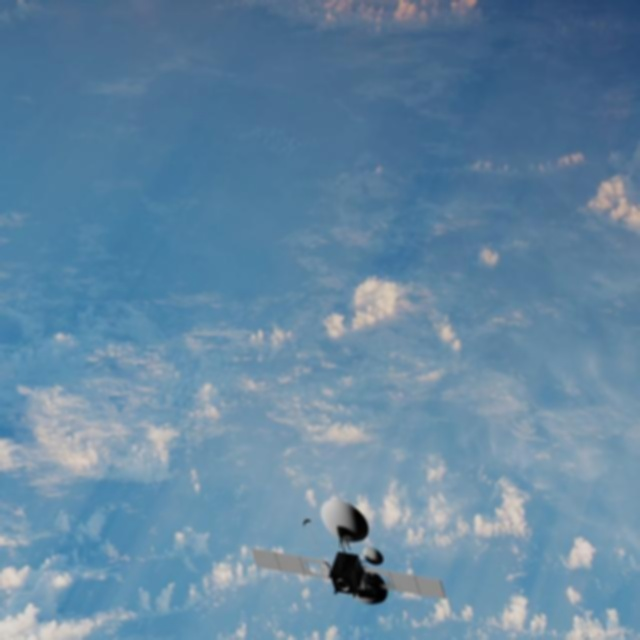medium_debris: (246, 498, 459, 606)
